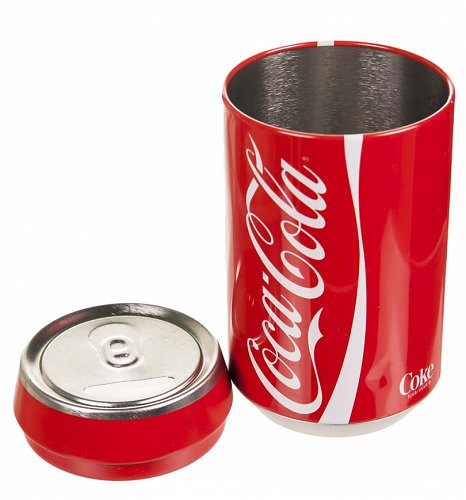can: (229, 32, 455, 456), (16, 289, 225, 491)
